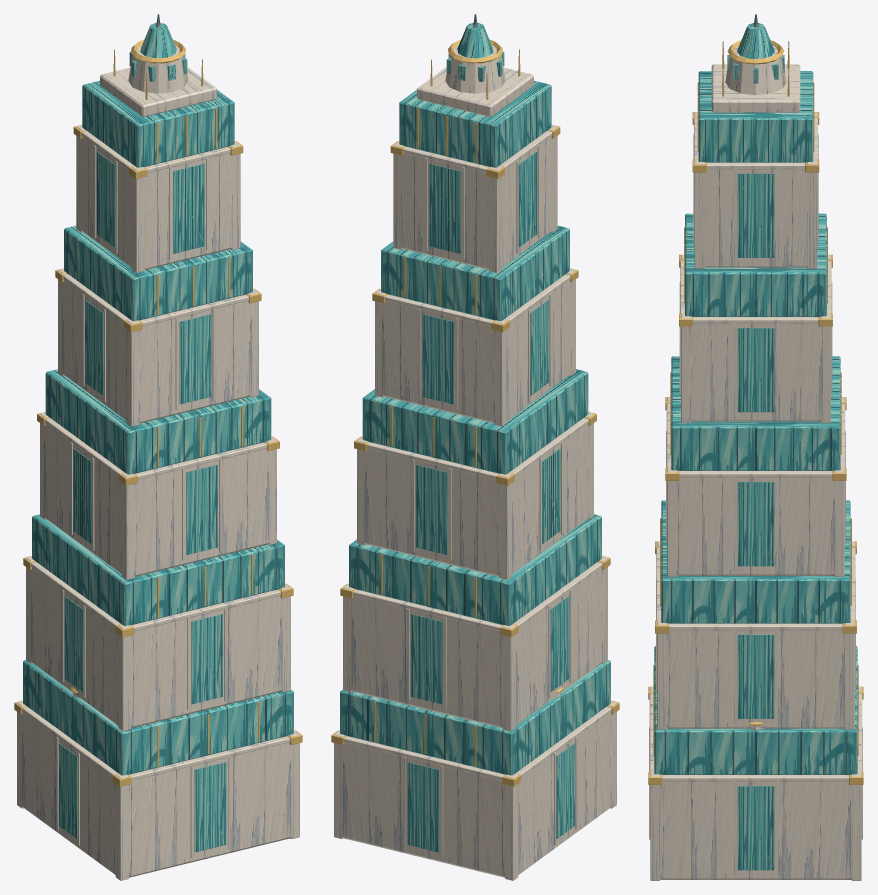
Rendered from ivoryTower.glb.
3 views of the same model, side by side, from view 1: azimuth 30°, elevation 25°; view 2: azimuth 150°, elevation 25°; view 3: azimuth 270°, elevation 25° (orthographic).
Parts seen in each view (by area): view 1: Tier.0.Ivory, Tier.1.Ivory, Tier.2.Ivory, Tier.3.Ivory, Tier.0.Glass, Tier.1.Glass, Tier.2.Glass, Tier.3.Glass, Tier.4.Ivory, Tier.4.Glass, RoofDeck, Tier.0.BayFront.1 (+22 smaller); view 2: Tier.0.Ivory, Tier.1.Ivory, Tier.2.Ivory, Tier.3.Ivory, Tier.0.Glass, Tier.1.Glass, Tier.2.Glass, Tier.3.Glass, Tier.4.Ivory, Tier.4.Glass, RoofDeck, Tier.0.BayFront.-1 (+22 smaller); view 3: Tier.0.Ivory, Tier.1.Ivory, Tier.2.Ivory, Tier.3.Ivory, Tier.1.Glass, Tier.0.Glass, Tier.2.Glass, Tier.3.Glass, Tier.4.Ivory, Tier.4.Glass, Tier.0.BaySide.1, Tier.1.BaySide.1 (+20 smaller).
Boxes of the visible parts, left/top/right/bottom form: Tier.0.Ivory: left=21, top=706, right=291, bottom=877; Tier.1.Ivory: left=30, top=562, right=282, bottom=727; Tier.2.Ivory: left=41, top=418, right=274, bottom=576; Tier.3.Ivory: left=59, top=274, right=256, bottom=423; Tier.0.Glass: left=23, top=660, right=293, bottom=775; Tier.1.Glass: left=32, top=514, right=284, bottom=625; Tier.2.Glass: left=45, top=369, right=271, bottom=474; Tier.3.Glass: left=64, top=225, right=252, bottom=320; Tier.4.Ivory: left=81, top=131, right=232, bottom=269; Tier.4.Glass: left=82, top=80, right=234, bottom=167; RoofDeck: left=100, top=67, right=216, bottom=117; Tier.0.BayFront.1: left=194, top=762, right=226, bottom=852; Tier.0.Ivory: left=342, top=706, right=612, bottom=877; Tier.1.Ivory: left=351, top=562, right=603, bottom=727; Tier.2.Ivory: left=359, top=418, right=592, bottom=576; Tier.3.Ivory: left=377, top=274, right=574, bottom=423; Tier.0.Glass: left=340, top=660, right=610, bottom=775; Tier.1.Glass: left=349, top=514, right=601, bottom=625; Tier.2.Glass: left=362, top=369, right=588, bottom=474; Tier.3.Glass: left=381, top=225, right=569, bottom=320; Tier.4.Ivory: left=401, top=131, right=552, bottom=269; Tier.4.Glass: left=399, top=80, right=551, bottom=167; RoofDeck: left=417, top=67, right=533, bottom=117; Tier.0.BayFront.-1: left=407, top=762, right=439, bottom=852; Tier.0.Ivory: left=653, top=756, right=858, bottom=879; Tier.1.Ivory: left=660, top=606, right=851, bottom=728; Tier.2.Ivory: left=670, top=455, right=841, bottom=575; Tier.3.Ivory: left=684, top=303, right=827, bottom=421; Tier.1.Glass: left=661, top=500, right=850, bottom=623; Tier.0.Glass: left=654, top=646, right=857, bottom=774; Tier.2.Glass: left=671, top=356, right=840, bottom=470; Tier.3.Glass: left=685, top=213, right=826, bottom=316; Tier.4.Ivory: left=697, top=152, right=814, bottom=267; Tier.4.Glass: left=698, top=71, right=813, bottom=162; Tier.0.BaySide.1: left=737, top=786, right=774, bottom=870; Tier.1.BaySide.1: left=737, top=634, right=774, bottom=718.
Size of what is drawn, in the model's own units: 31.6 by 133 by 31.6.
Materials: 5 (4 with a texture image).
